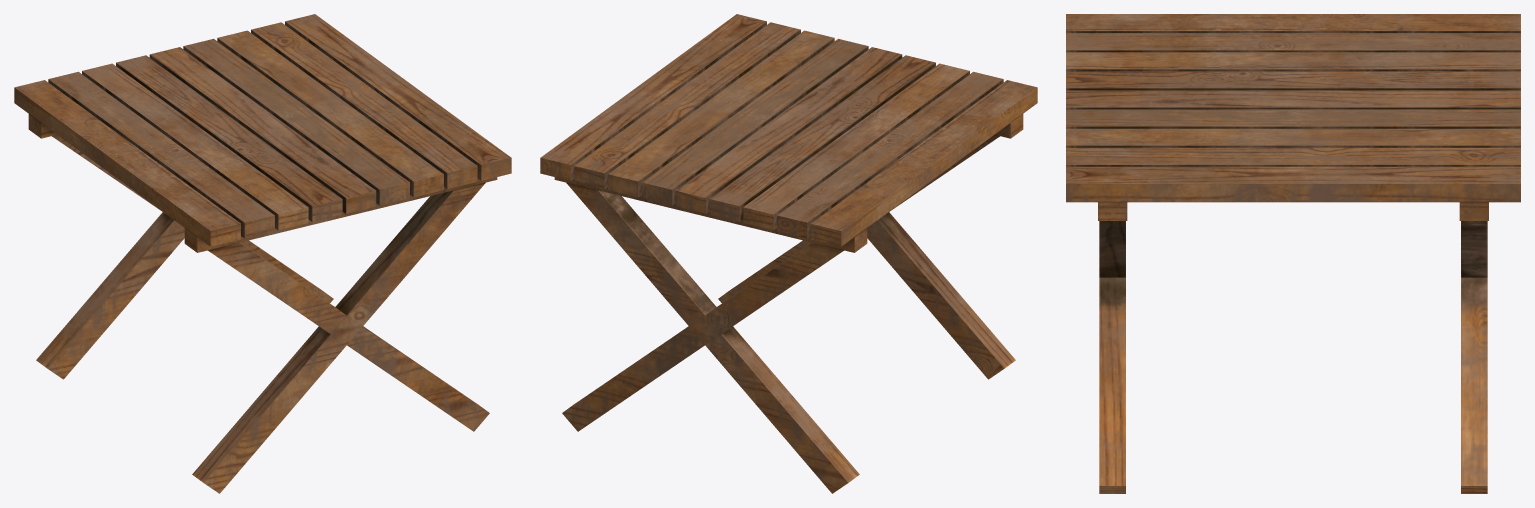
The model's file is CampTable.fbx.
3 renders of one model, left to right at view 1: azimuth 30°, elevation 25°; view 2: azimuth 150°, elevation 25°; view 3: azimuth 270°, elevation 25°, orthographic. The views are drawn at different scales.
Parts seen in each view (by area): view 1: CampTable; view 2: CampTable; view 3: CampTable.
Boxes of the visible parts, x1,y1,x2,y2 form: CampTable: (14,14,511,493); CampTable: (540,14,1037,493); CampTable: (1066,14,1520,493).
Size of the model in its own units: 2.22 by 1.97 by 2.52.
